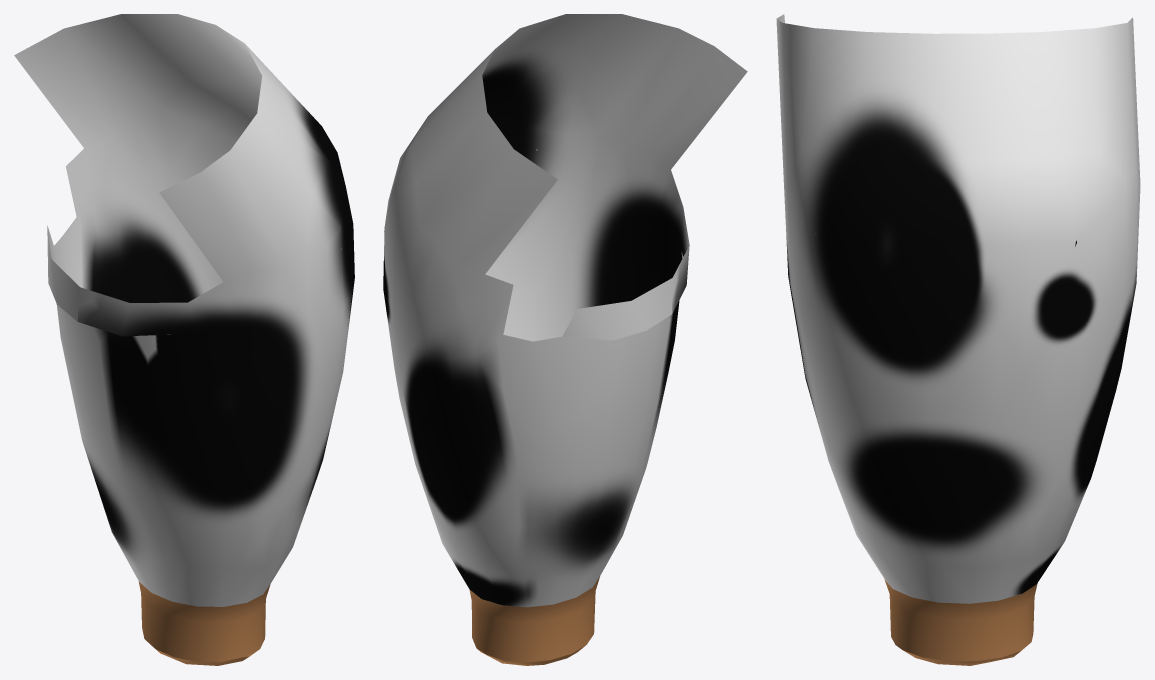
Rendered from cow_leg.glb.
The picture shows the model from 3 angles, left to right: view 1: azimuth 30°, elevation 25°; view 2: azimuth 150°, elevation 25°; view 3: azimuth 270°, elevation 25°; orthographic projection. The views are drawn at different scales.
Parts seen in each view (by area): view 1: Del_izq; view 2: Del_izq; view 3: Del_izq.
Boxes of the visible parts, x1,y1,x2,y2 form: Del_izq: [14, 14, 354, 665]; Del_izq: [383, 14, 747, 665]; Del_izq: [776, 14, 1140, 665].
Size of the model in its own units: 0.4858 by 1.08 by 0.5714.
Materials: 2 (1 with a texture image).
